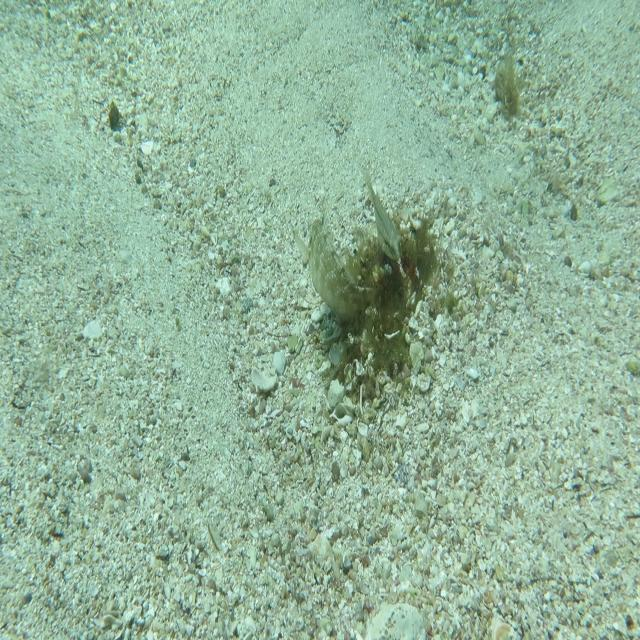BEND: (292, 206, 375, 326)
female: (362, 167, 402, 262)
nest: (311, 197, 448, 413)
